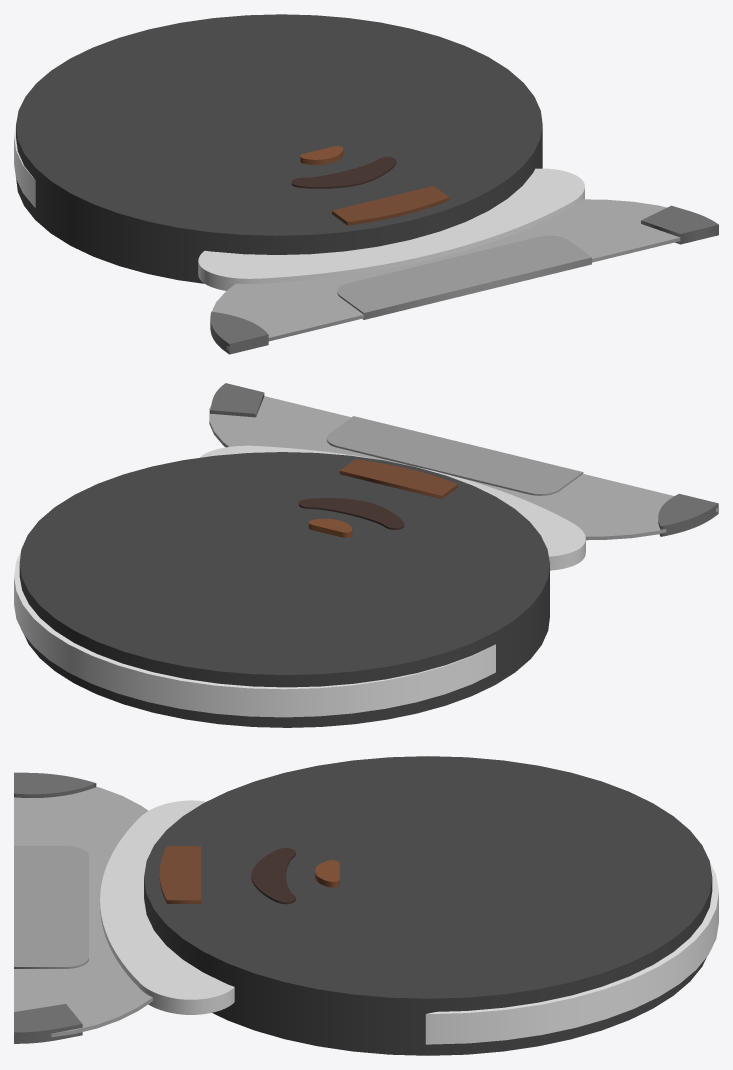
The model's file is emoji_u1f469_1f3fe_200d_1f680.glb.
3 renders of one model, top to bottom at view 1: azimuth 30°, elevation 25°; view 2: azimuth 150°, elevation 25°; view 3: azimuth 270°, elevation 25°, orthographic. The views are drawn at different scales.
Parts seen in each view (by area): view 1: emoji_u1f469_1f3fe_200d_1f680; view 2: emoji_u1f469_1f3fe_200d_1f680; view 3: emoji_u1f469_1f3fe_200d_1f680.
Boxes of the visible parts, x1,y1,x2,y2 form: emoji_u1f469_1f3fe_200d_1f680: (14,14,718,354); emoji_u1f469_1f3fe_200d_1f680: (14,383,718,727); emoji_u1f469_1f3fe_200d_1f680: (14,756,718,1055).
Bounding box in the file's own units: 0.0293 × 0.0036 × 0.0336.
